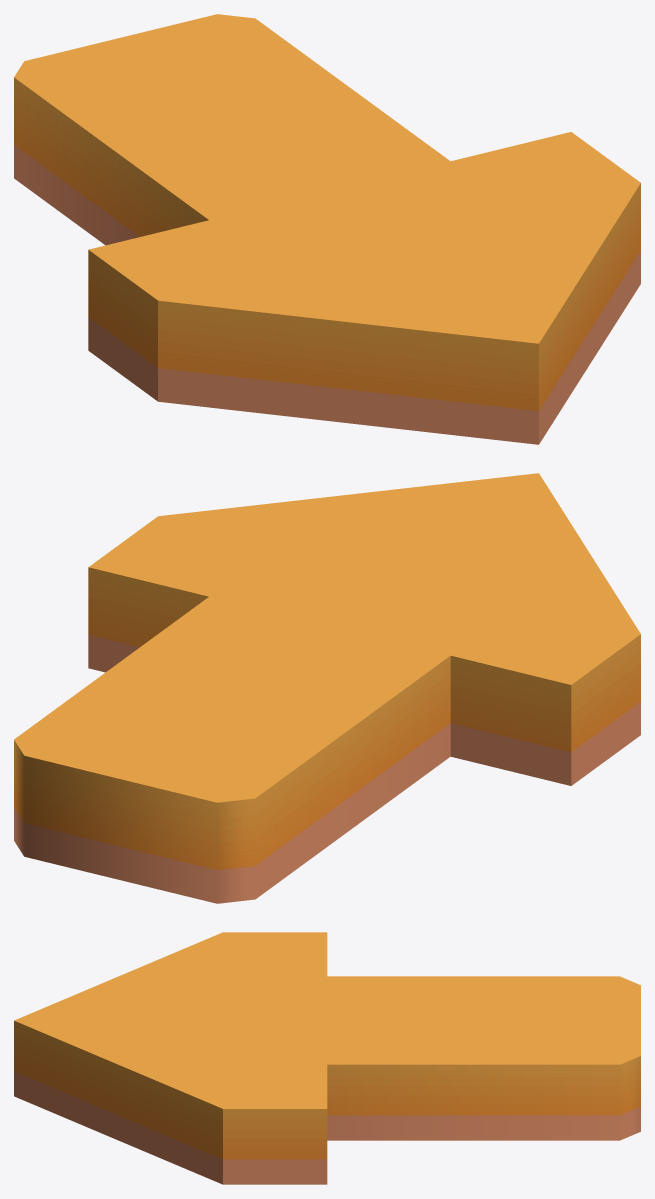
Rendered from arrow.glb.
3 renders of one model, top to bottom at view 1: azimuth 30°, elevation 25°; view 2: azimuth 150°, elevation 25°; view 3: azimuth 270°, elevation 25°, orthographic. The views are drawn at different scales.
Parts seen in each view (by area): view 1: arrow; view 2: arrow; view 3: arrow.
Part boxes in pixels (<box>): arrow: <box>14,14,640,444</box>; arrow: <box>14,473,640,903</box>; arrow: <box>14,932,640,1184</box>.
Size of the model in its own units: 1.2 by 0.24 by 1.8.
Materials: 1 (1 with a texture image).
